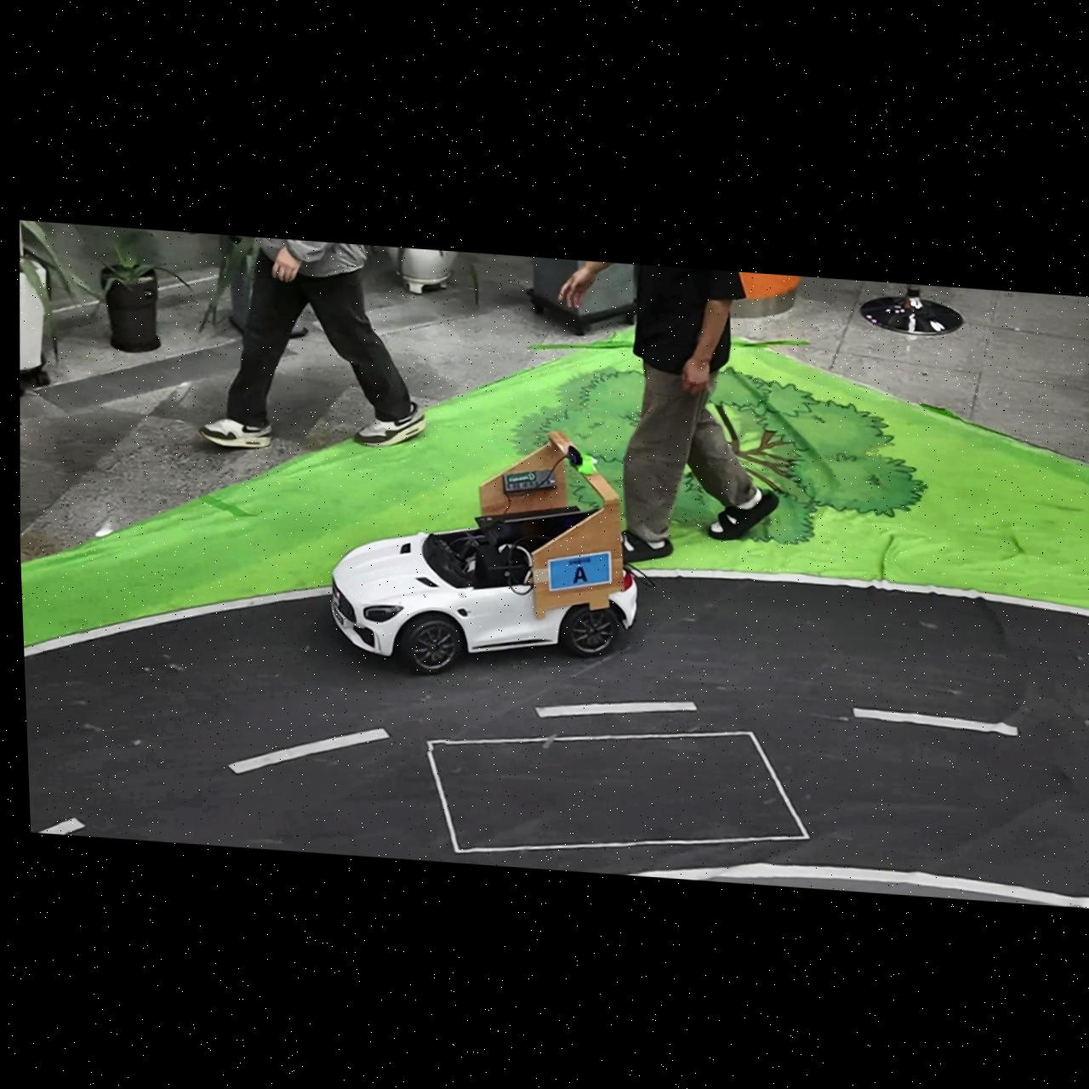broken_line: (229, 728, 391, 773), (853, 708, 1017, 736), (537, 701, 696, 717), (39, 817, 83, 834)
